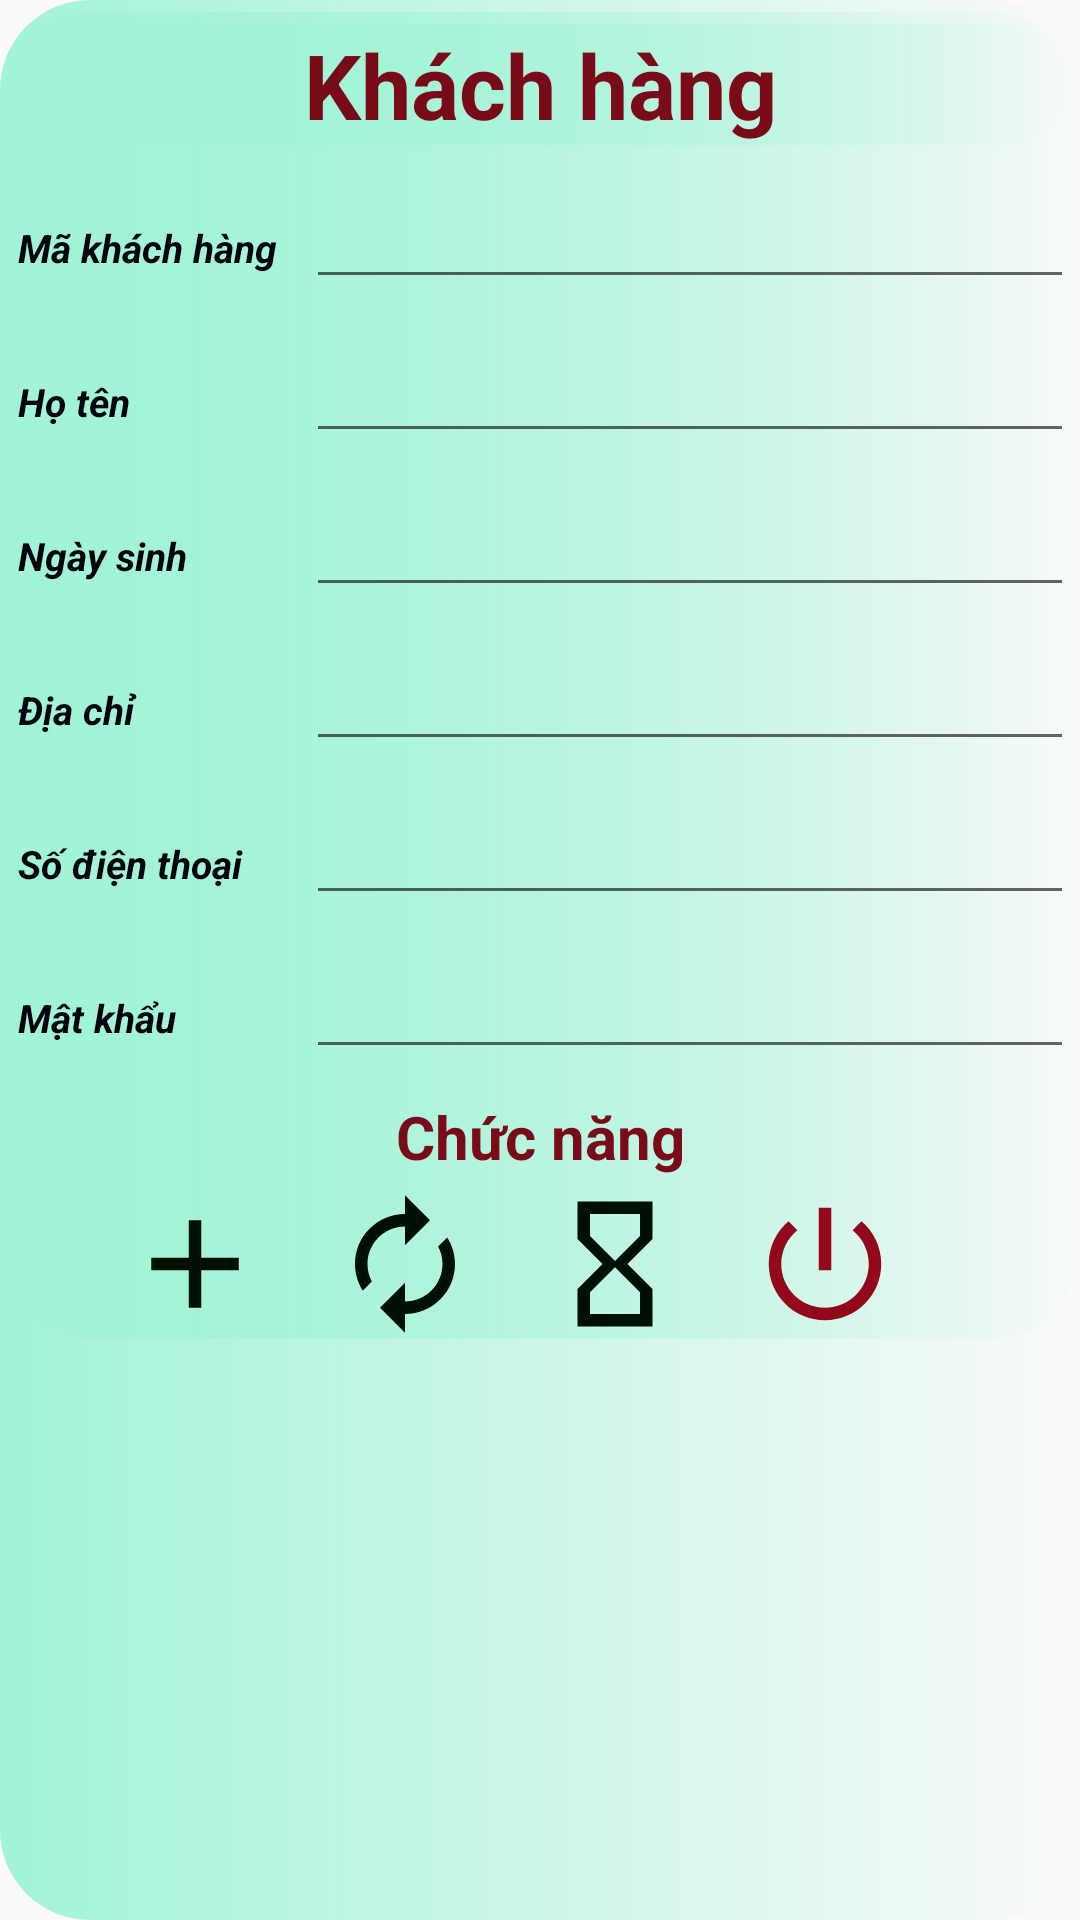

Where icons sit on this 1080 × 1920 app screen, as (x1, y1, x2, y2):
add: (151, 1220, 239, 1308)
hourglass empty: (577, 1201, 653, 1327)
power settings: (750, 1189, 882, 1339)
update: (355, 1195, 455, 1333)
